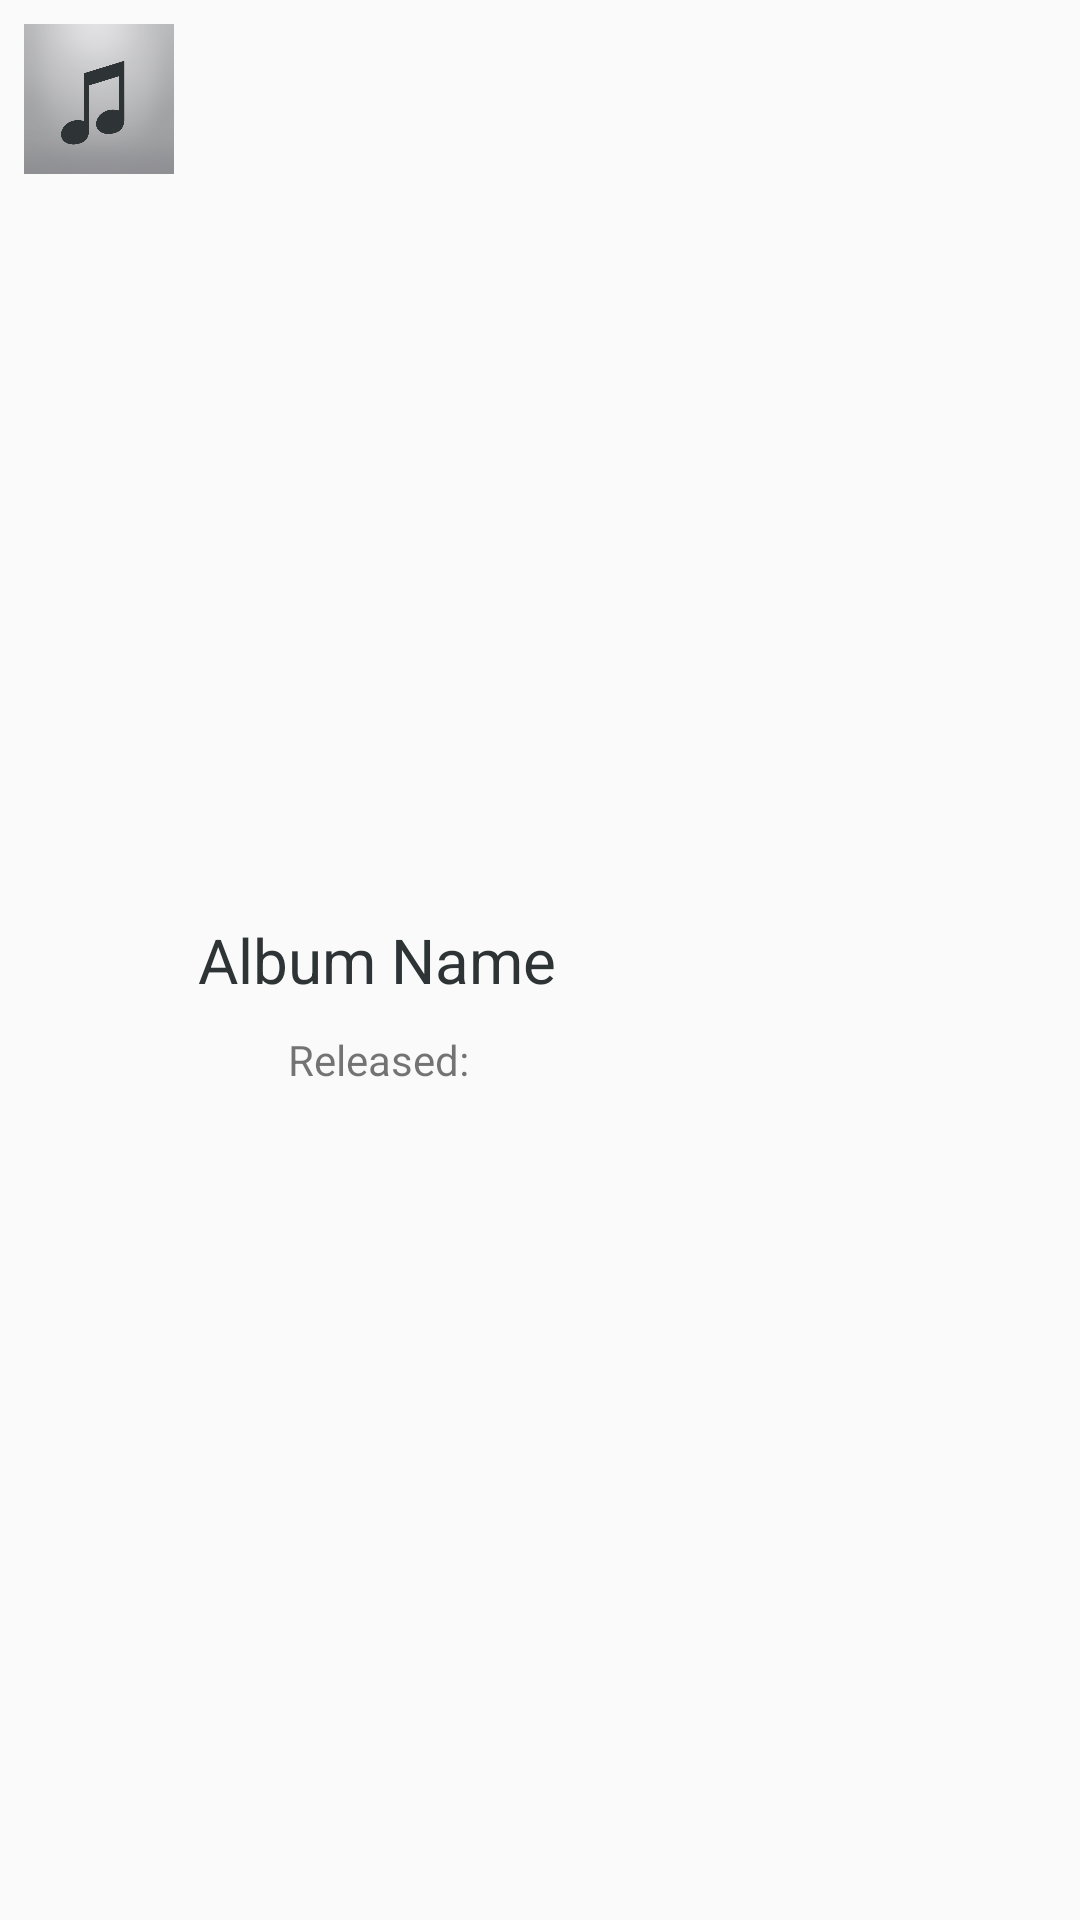

Icons on this 1080*1920 Android screen, each with the point to tap as (x,y):
no album art: (99,99)
